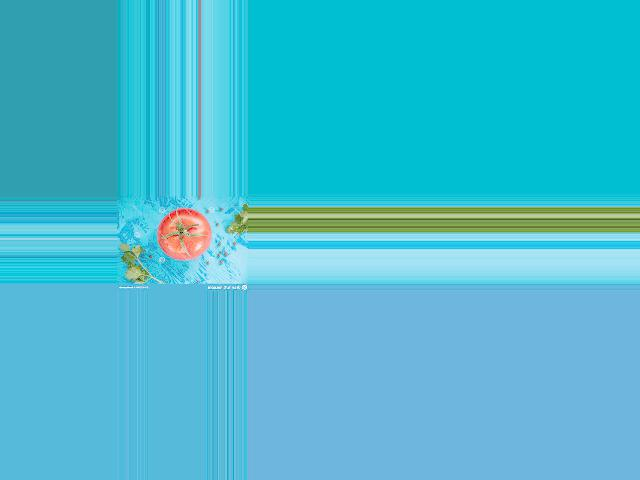tomato: (156, 208, 211, 260)
